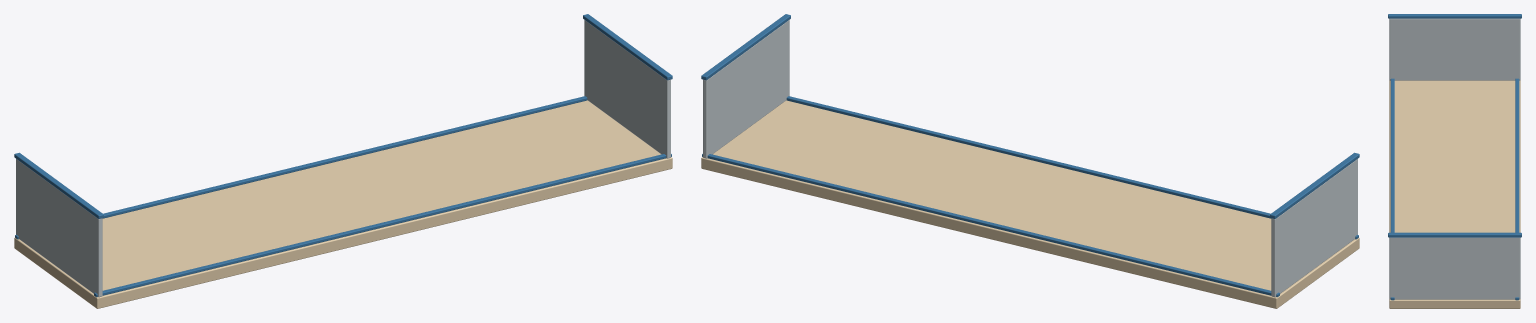
Rendered from squash-club-and-racket-workshop-viewing-balcony-a5d392f1__29742.glb.
The picture shows the model from 3 angles, left to right: view 1: azimuth 30°, elevation 25°; view 2: azimuth 150°, elevation 25°; view 3: azimuth 270°, elevation 25°; orthographic projection. The views are drawn at different scales.
Parts seen in each view (by area): view 1: viewing-balcony; view 2: viewing-balcony; view 3: viewing-balcony.
Part boxes in pixels (x1,y1,x2,y2): viewing-balcony: (14,14,672,308); viewing-balcony: (701,14,1359,308); viewing-balcony: (1388,14,1521,308).
Bounding box in the file's own units: 8 × 1.25 × 2.04.
